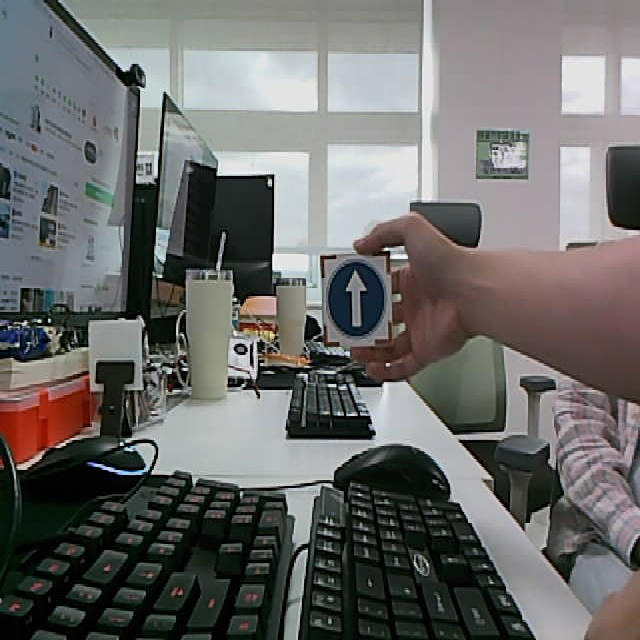straight: (319, 251, 394, 347)
